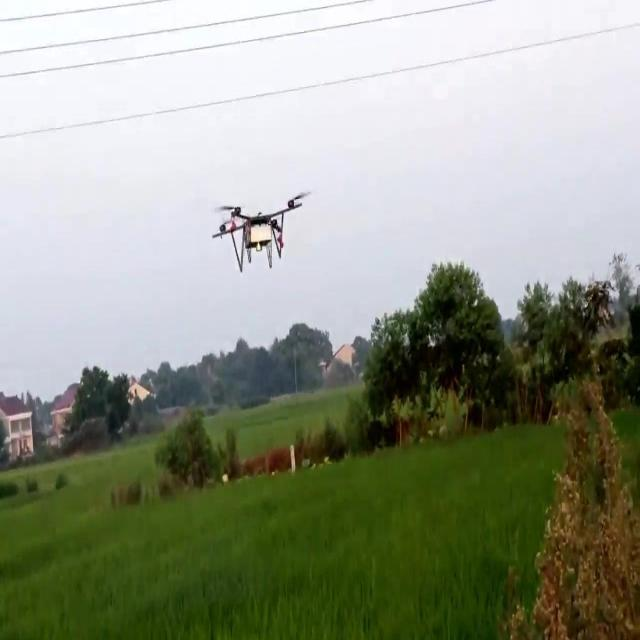drone: (210, 190, 304, 272)
